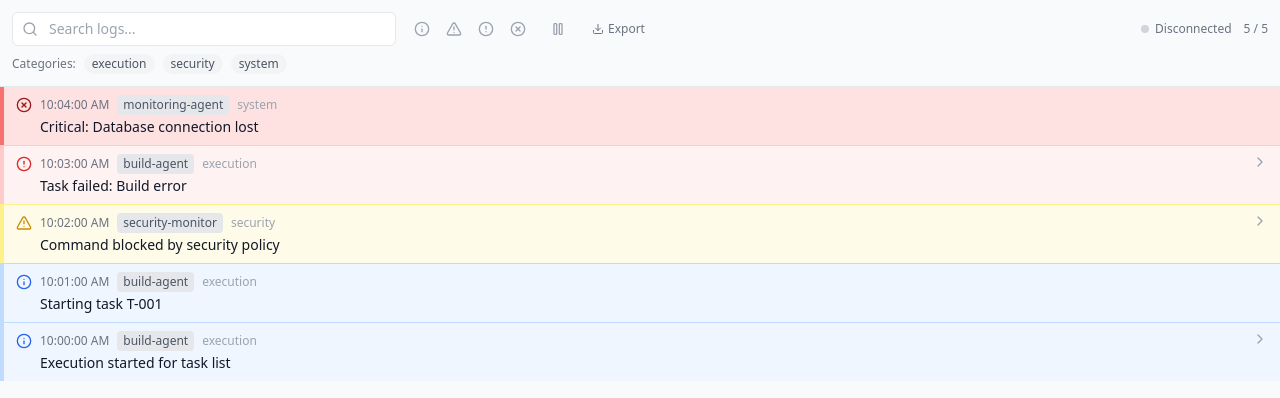
Test: UnifiedLogViewer › Empty state › shows filter message when filters hide all logs
Expected: the text "Execution started for task list" is shown, [40,353,231,372]
// Search for something that doesn't exist
Type "nonexistent" into the field with placeholder "Search logs..." at coordinates (204, 29), box [12,12,396,46]
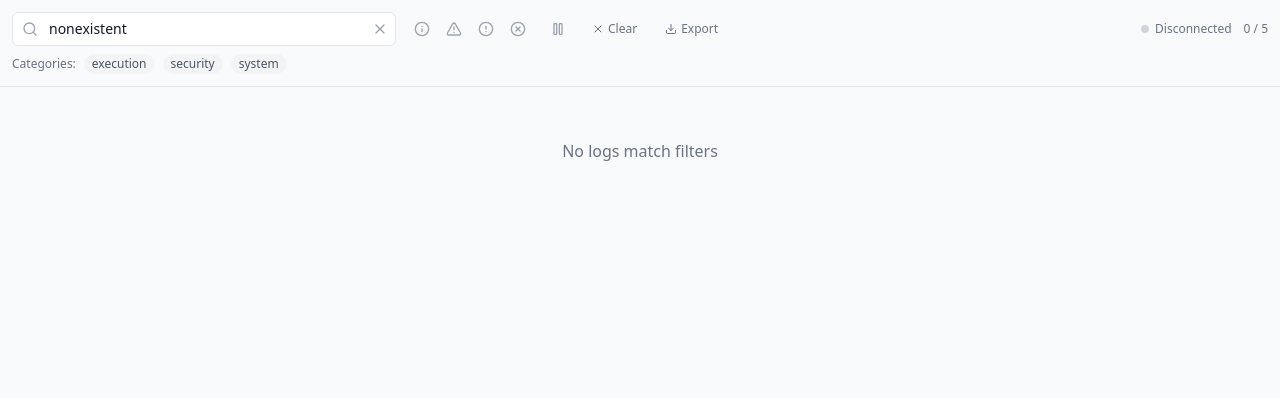
Now the text "No logs match filters" is shown, box [562,140,718,162]
